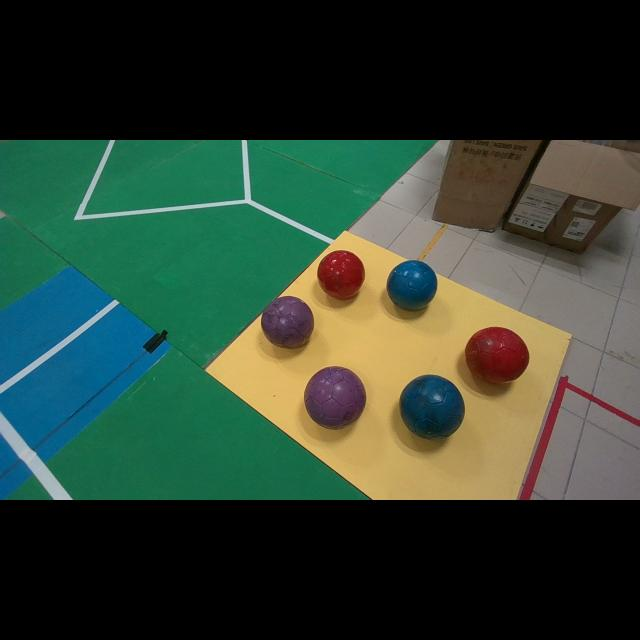B: (400, 375, 465, 440), (386, 260, 438, 311)
P: (305, 366, 366, 429), (261, 298, 312, 347)
R: (465, 326, 530, 383), (318, 250, 365, 299)
